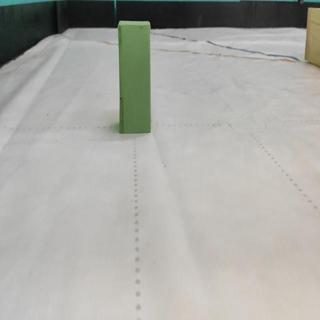greenbox: (116, 19, 153, 134)
